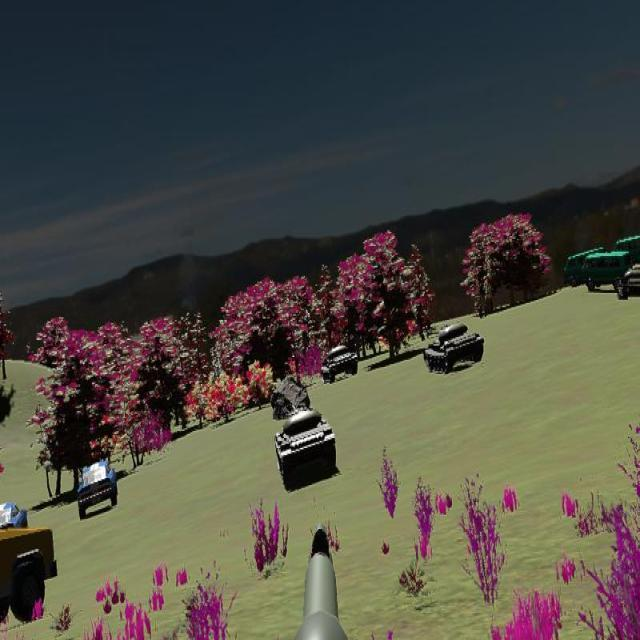Tank: (274, 406, 336, 481), (424, 321, 484, 374), (321, 343, 358, 383), (618, 263, 640, 302)
car: (0, 498, 57, 627), (77, 458, 118, 518), (583, 251, 635, 291), (613, 234, 640, 271), (614, 233, 640, 270)
